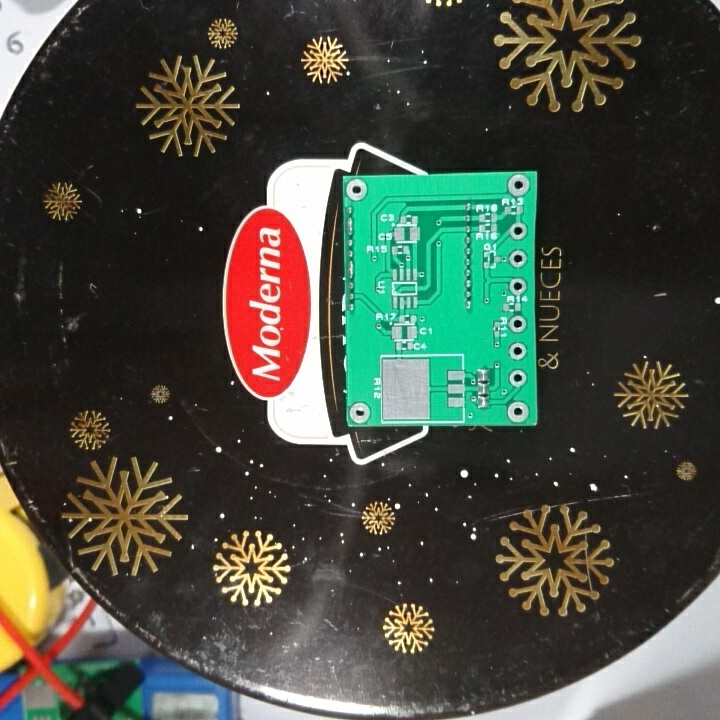F: (343, 175, 371, 204), (504, 172, 531, 199), (505, 399, 531, 423), (348, 400, 374, 422), (507, 219, 529, 242), (506, 312, 528, 335), (505, 340, 528, 362), (508, 247, 529, 269), (507, 275, 528, 295), (506, 369, 528, 388)
P: (345, 214, 359, 237), (345, 258, 359, 280)
